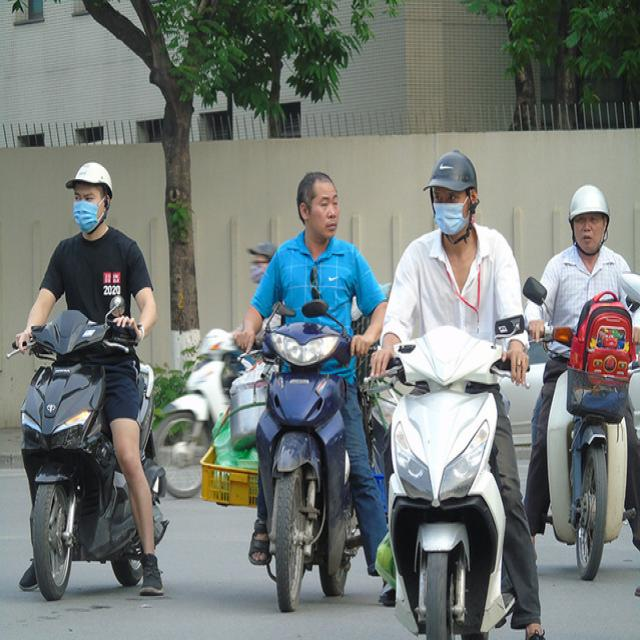helmet: (423, 149, 478, 193), (568, 183, 610, 222), (65, 161, 113, 195)
no_helmet: (291, 164, 343, 246)
